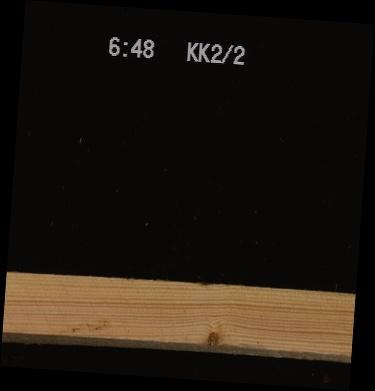edge_knot: (205, 329, 218, 348)
